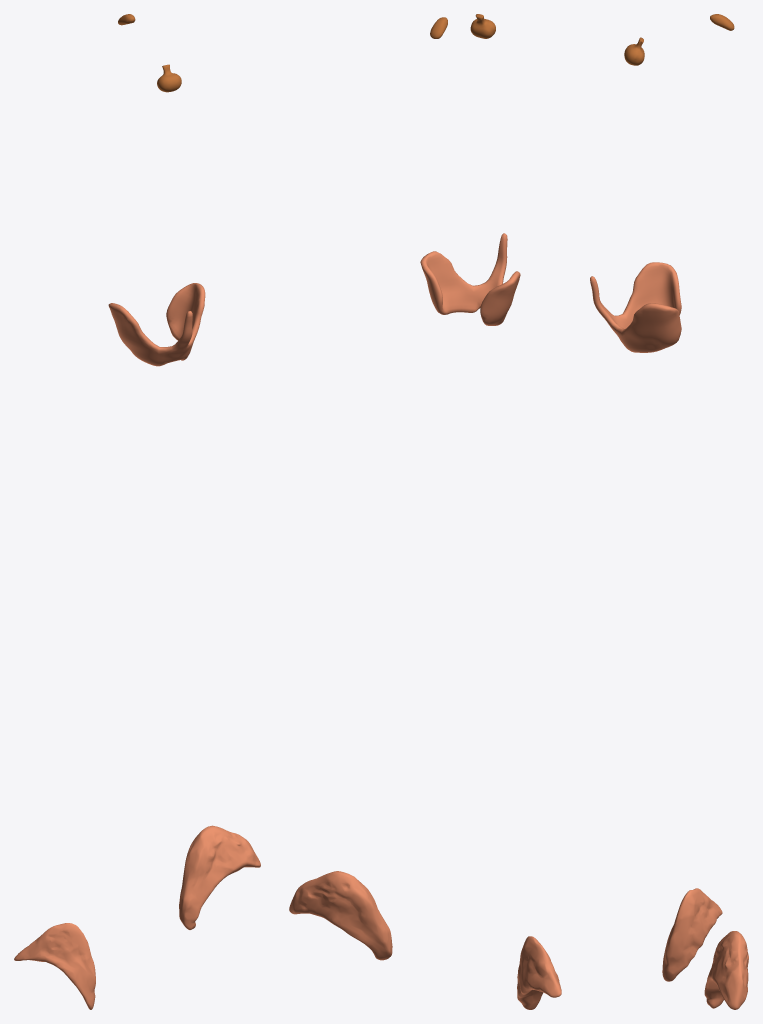
File: endocrine.glb
The picture shows the model from 3 angles, left to right: view 1: azimuth 30°, elevation 25°; view 2: azimuth 150°, elevation 25°; view 3: azimuth 270°, elevation 25°; orthographic projection. The views are drawn at different scales.
Parts seen in each view (by area): view 1: Suprarenal_gland_L, Thyroid_gland, Suprarenal_gland_R; view 2: Suprarenal_gland_L, Thyroid_gland, Suprarenal_gland_R; view 3: Thyroid_gland, Suprarenal_gland_R, Suprarenal_gland_L.
Part boxes in pixels (x1,y1,x2,y2): Suprarenal_gland_L: (179,825,260,929); Thyroid_gland: (108,283,205,366); Suprarenal_gland_R: (14,923,95,1009); Suprarenal_gland_L: (289,871,392,960); Thyroid_gland: (420,233,520,325); Suprarenal_gland_R: (517,936,561,1009); Thyroid_gland: (590,262,681,352); Suprarenal_gland_R: (662,888,722,981); Suprarenal_gland_L: (704,931,748,1009).
Size of the model in its own units: 0.138 by 0.4994 by 0.072.
